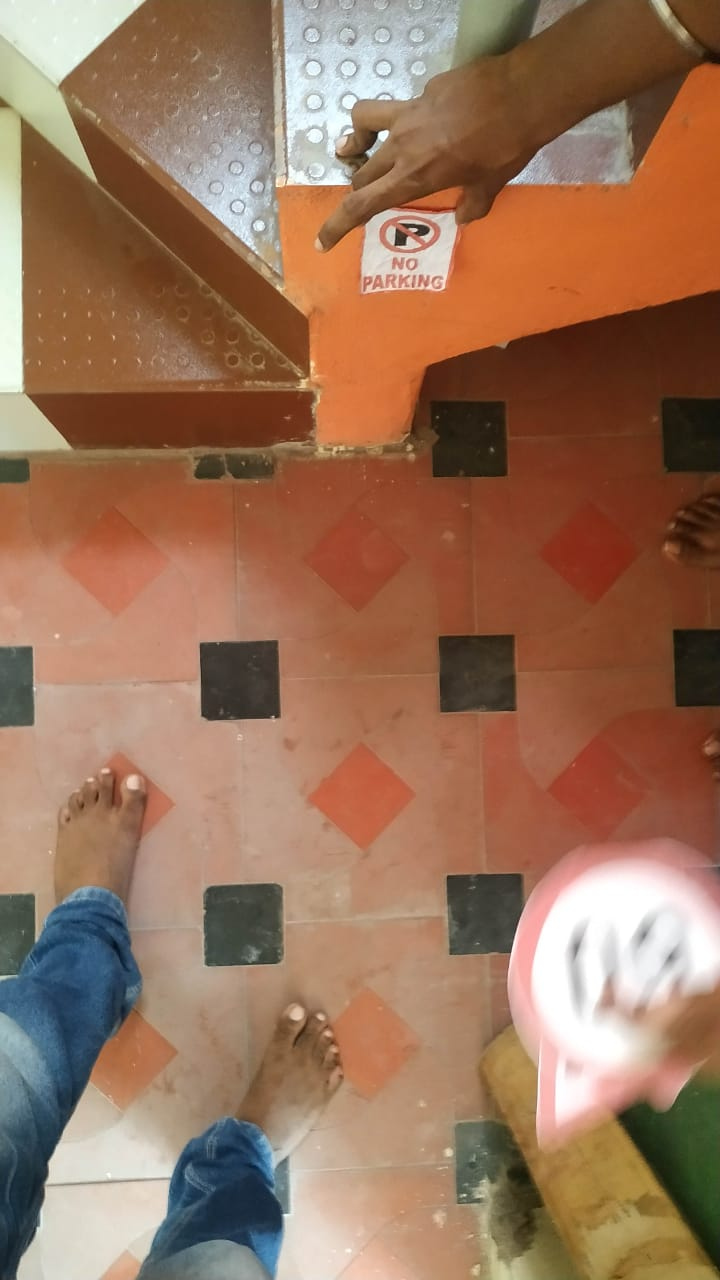NO PARKING: (352, 206, 466, 303)
